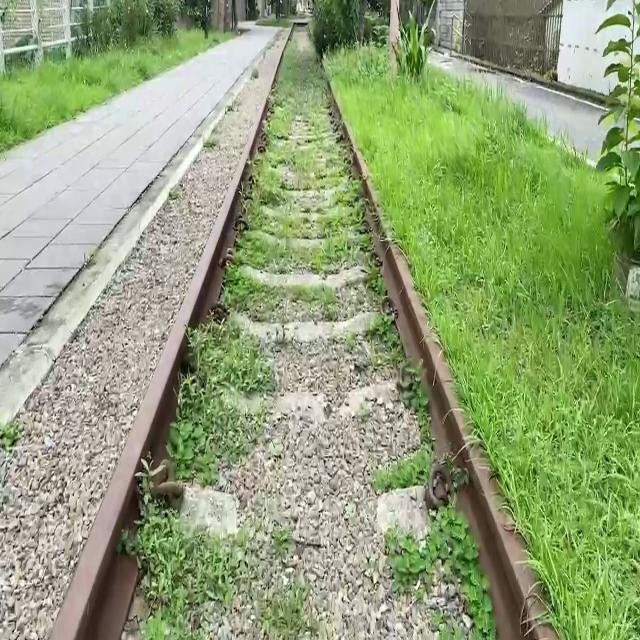rail-track: (125, 26, 489, 639)
